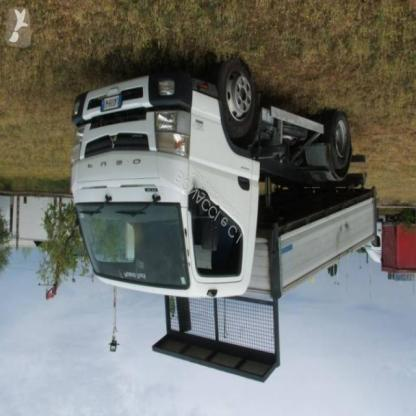truck: (70, 64, 377, 372)
